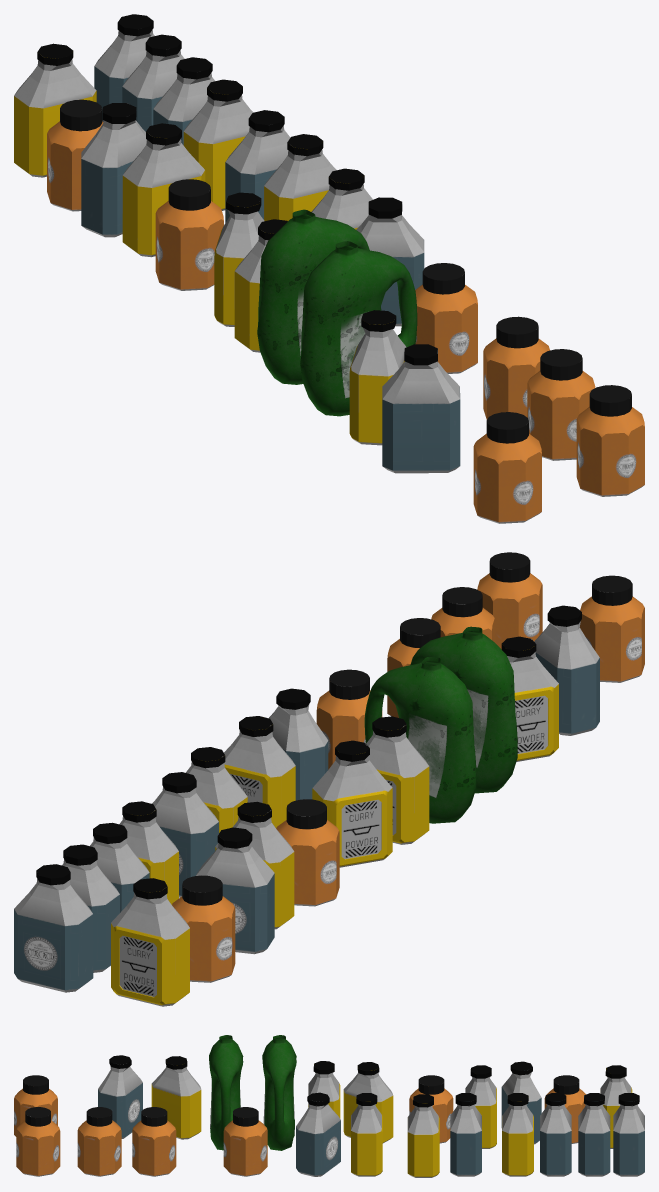
The model's file is bottels on rack.fbx.
3 renders of one model, top to bottom at view 1: azimuth 30°, elevation 25°; view 2: azimuth 150°, elevation 25°; view 3: azimuth 270°, elevation 25°, orthographic. The views are drawn at different scales.
Visible parts, largest first — view 1: polySurface1.002, polySurface3.007, polySurface1.001, polySurface8.002, polySurface8.003, polySurface8.004, polySurface6.003, polySurface3.005, polySurface6.007, polySurface8.006, polySurface8.001, polySurface6.008 (+12 smaller); view 2: polySurface1.001, polySurface3.001, polySurface6.007, polySurface1.002, polySurface6.004, polySurface3.005, polySurface3.007, polySurface8.003, polySurface6.005, polySurface8.004, polySurface8.005, polySurface6.001 (+12 smaller); view 3: polySurface1.001, polySurface3.004, polySurface6.008, polySurface1.002, polySurface8, polySurface8.001, polySurface8.002, polySurface8.006, polySurface3.002, polySurface6.006, polySurface3.007, polySurface3.001 (+12 smaller).
Part boxes in pixels (x1,y1,x2,y2): polySurface1.002: (300,241,417,416); polySurface3.007: (382,344,460,473); polySurface1.001: (257,209,369,384); polySurface8.002: (576,385,644,496); polySurface8.003: (473,412,541,523); polySurface8.004: (155,179,223,290); polySurface6.003: (122,123,205,257); polySurface3.005: (81,103,146,237); polySurface6.007: (14,43,96,177); polySurface8.006: (415,263,477,373); polySurface8.001: (527,349,595,460); polySurface6.008: (349,310,406,445); polySurface1.001: (364,657,476,823); polySurface3.001: (14,864,93,992); polySurface6.007: (111,878,189,1006); polySurface1.002: (410,626,517,793); polySurface6.004: (312,740,392,867); polySurface3.005: (195,827,274,954); polySurface3.007: (534,605,599,735); polySurface8.003: (579,575,644,682); polySurface6.005: (366,716,429,844); polySurface8.004: (276,799,339,906); polySurface8.005: (172,875,235,982); polySurface6.001: (224,716,295,828); polySurface1.001: (262,1035,296,1150); polySurface3.004: (296,1092,340,1176); polySurface6.008: (151,1056,201,1139); polySurface1.002: (209,1035,243,1150); polySurface8: (132,1107,176,1176); polySurface8.001: (77,1107,121,1176); polySurface8.002: (16,1107,60,1176); polySurface8.006: (223,1107,267,1176); polySurface3.002: (578,1093,610,1176); polySurface6.006: (407,1094,439,1177); polySurface3.007: (98,1055,142,1138); polySurface3.001: (613,1093,644,1176).
Bounding box in the file's own units: 52.73 × 42.07 × 235.
Materials: 24 (24 with a texture image).
